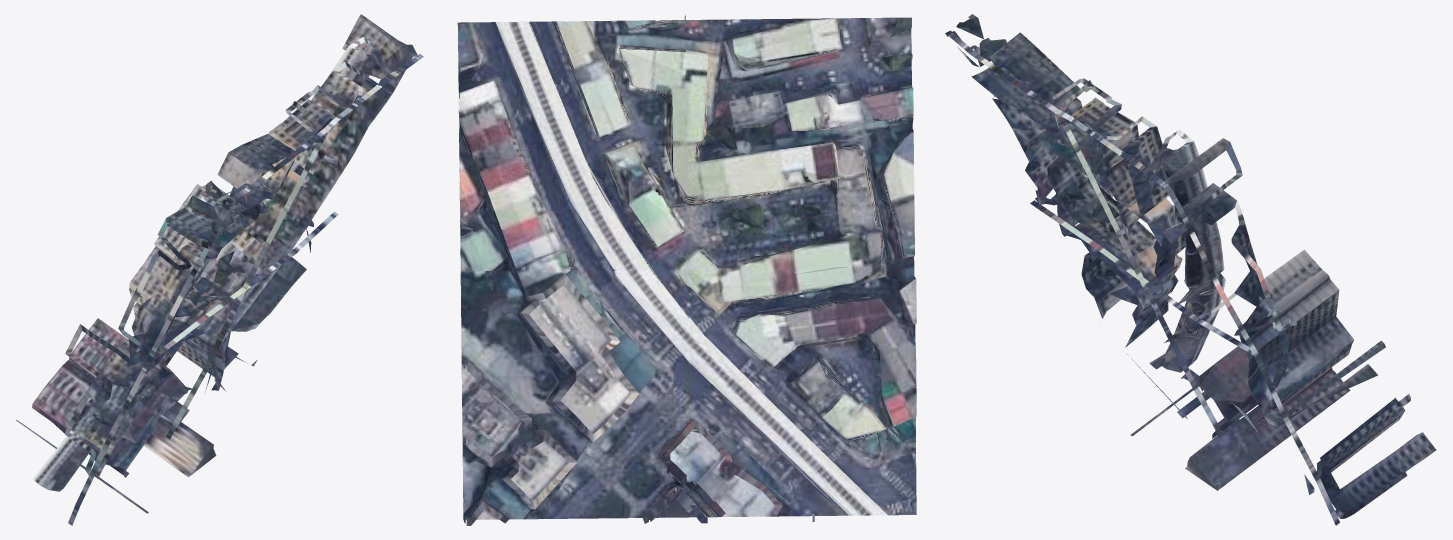
3 views of the same model, side by side, from view 1: azimuth 30°, elevation 25°; view 2: azimuth 150°, elevation 25°; view 3: azimuth 270°, elevation 25° (orthographic). The views are drawn at different scales.
Bounding box in the file's own units: 155 × 155 × 161.
2 materials, 2 textured.
